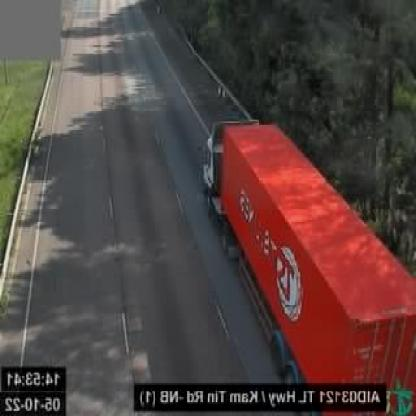Truck: (207, 123, 416, 410)
